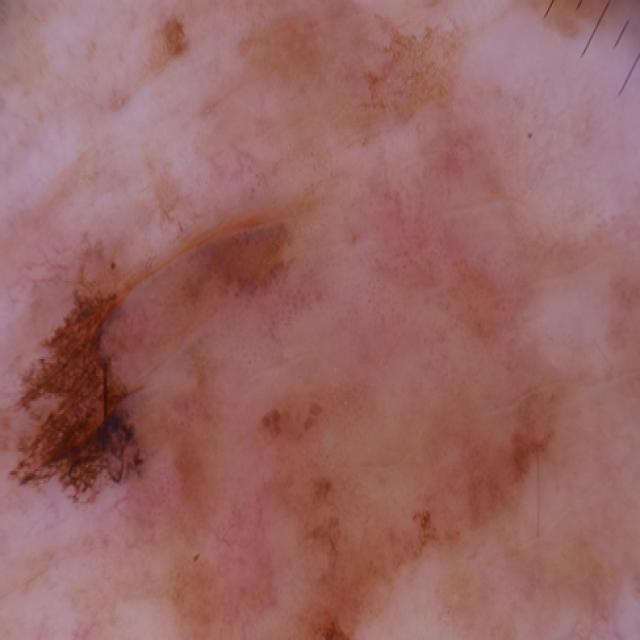Keratosis: (0, 239, 194, 548), (241, 166, 447, 385), (256, 399, 418, 640), (457, 415, 582, 591)
